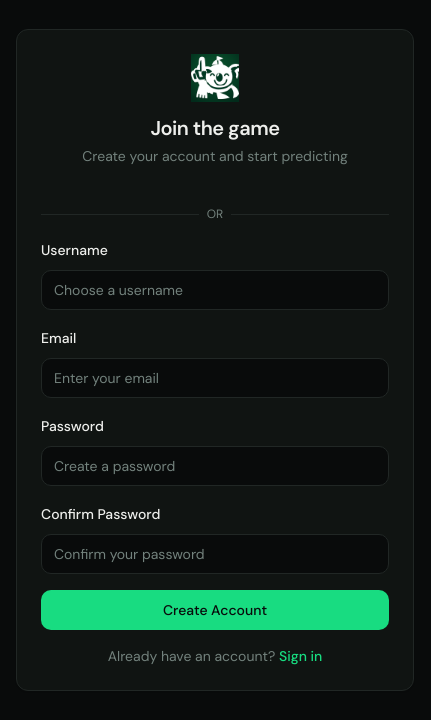
Test: SignupPage › shows error when password is too short
Type "newuser" into the field labelled "Username".
click(215, 290); type("newuser")  # box [41, 270, 389, 310]
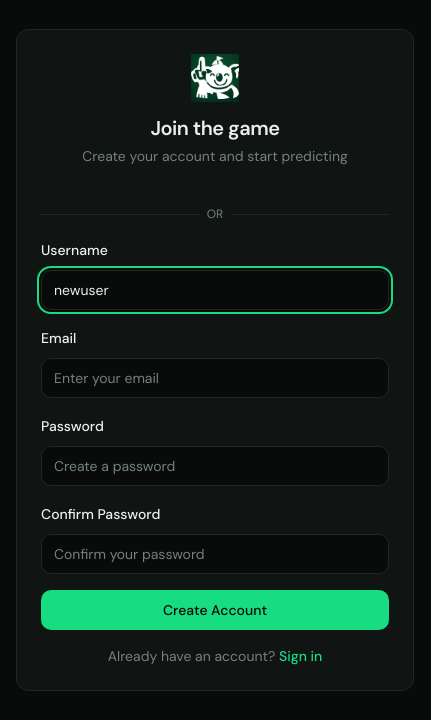
Type "a@b.com" into the field labelled "Email".
click(215, 378); type("a@b.com")  # box [41, 358, 389, 398]
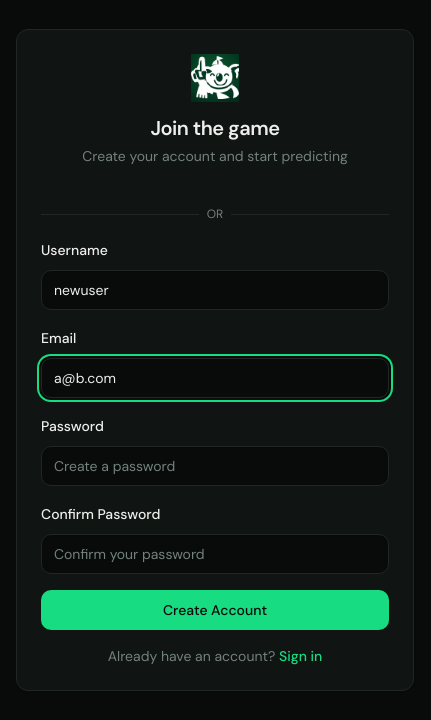
Type "abc" into the password field labelled "Password".
click(215, 466); type("abc")  # box [41, 446, 389, 486]
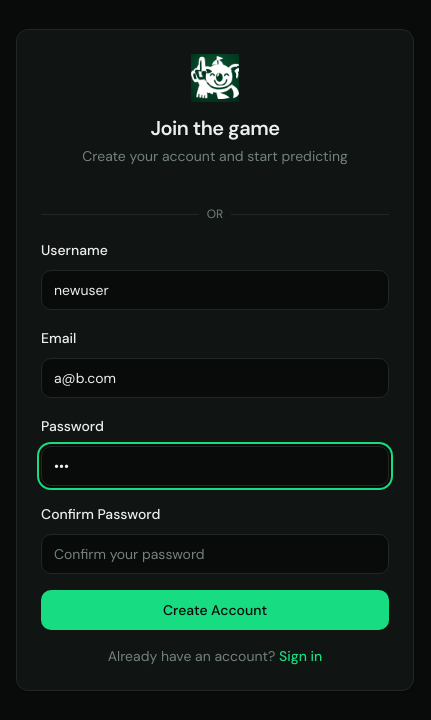
Type "abc" into the password field labelled "Confirm Password".
click(215, 554); type("abc")  # box [41, 534, 389, 574]
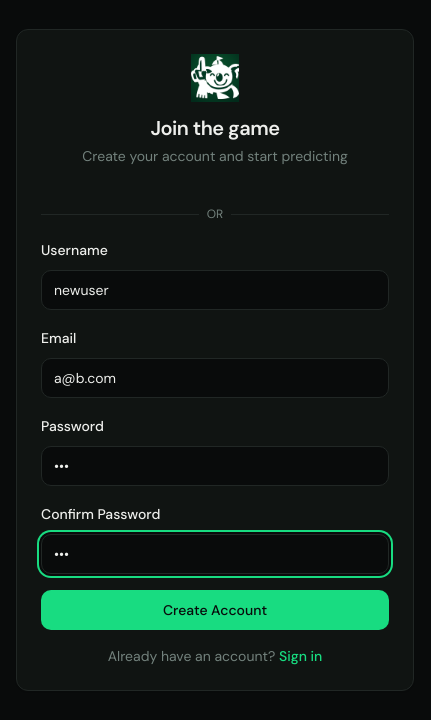
Click the button "Create Account".
click(215, 610)  # box [41, 590, 389, 630]
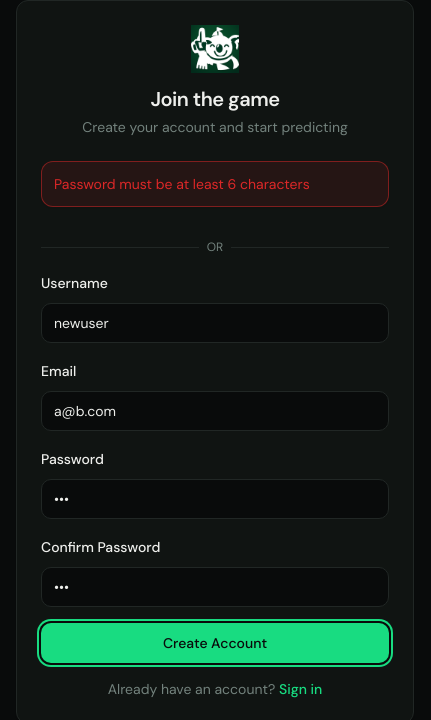
Expected: the text "Password must be at least 6 characters" is shown, [54, 175, 310, 193]
